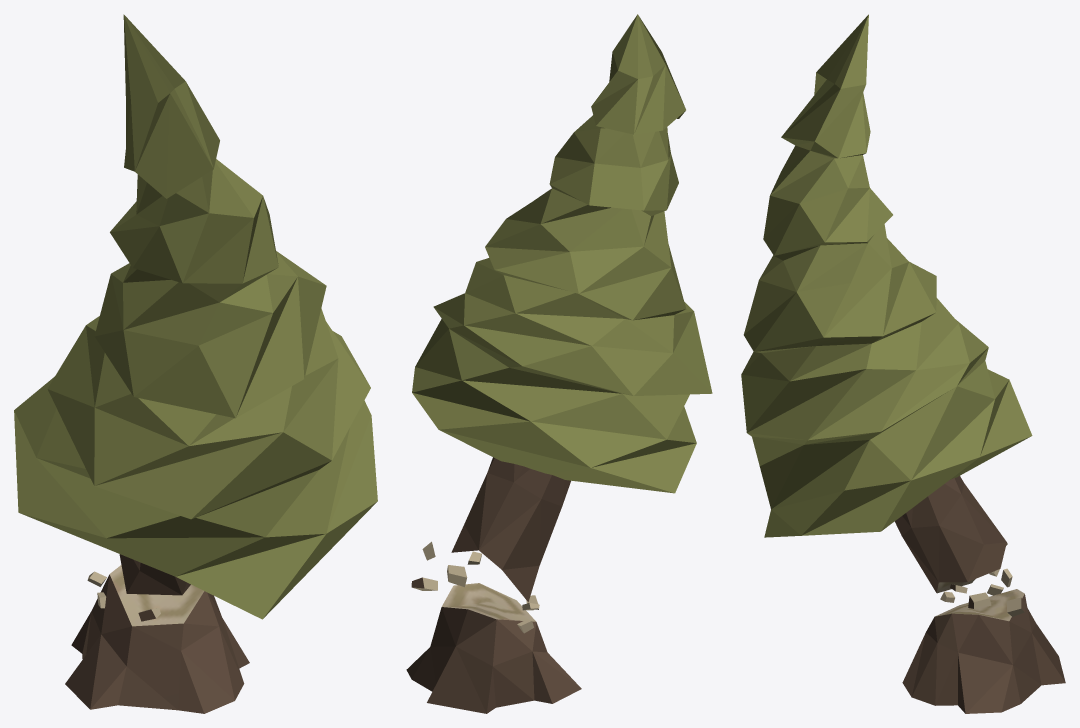
The model's file is fallingTree.fbx.
The picture shows the model from 3 angles, left to right: view 1: azimuth 30°, elevation 25°; view 2: azimuth 150°, elevation 25°; view 3: azimuth 270°, elevation 25°; orthographic projection. The views are drawn at different scales.
Visible parts, largest first — view 1: fallingTree; view 2: fallingTree; view 3: fallingTree.
Boxes of the visible parts, bbox=[...] form: fallingTree: bbox=[14, 14, 377, 713]; fallingTree: bbox=[406, 14, 712, 713]; fallingTree: bbox=[741, 14, 1065, 713].
Bounding box in the file's own units: 1.7 × 3.84 × 1.8.
Materials: 1 (1 with a texture image).
